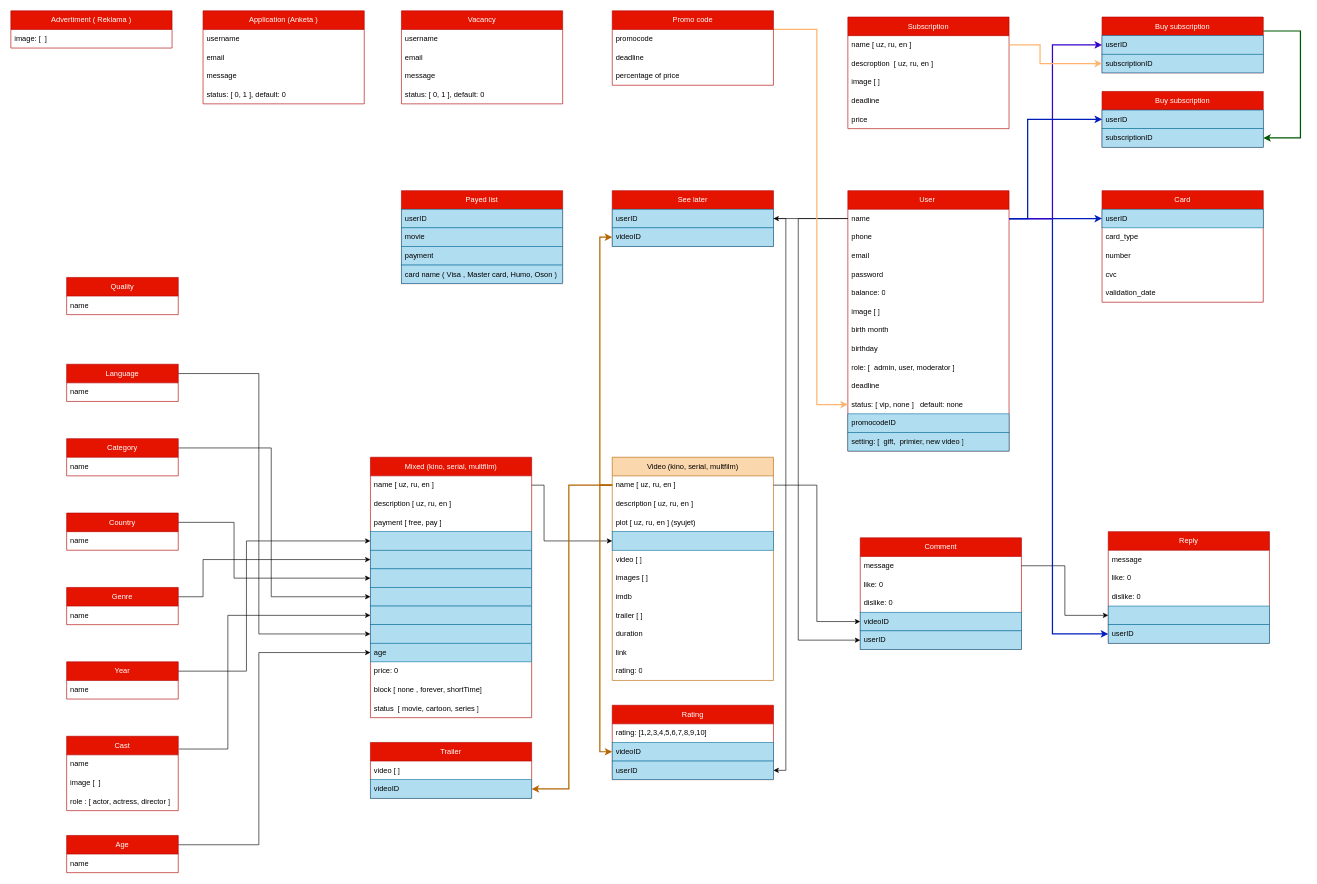
Image size: 1317x884. Some labels were removed from this diagram. The shapes that lost their labels are listed below. From the top down, each one's centre as x and y in pixels, then its label:
At point (451, 540): "yearID [ ]".
At point (451, 559): "genreID [ ]".
At point (692, 540): "mixedID".
At point (451, 577): "country [ ]".
At point (451, 596): "category [ ]".
At point (451, 615): "cast [ ]".
At point (451, 633): "quality [ ]".
At point (1188, 615): "commentID".
